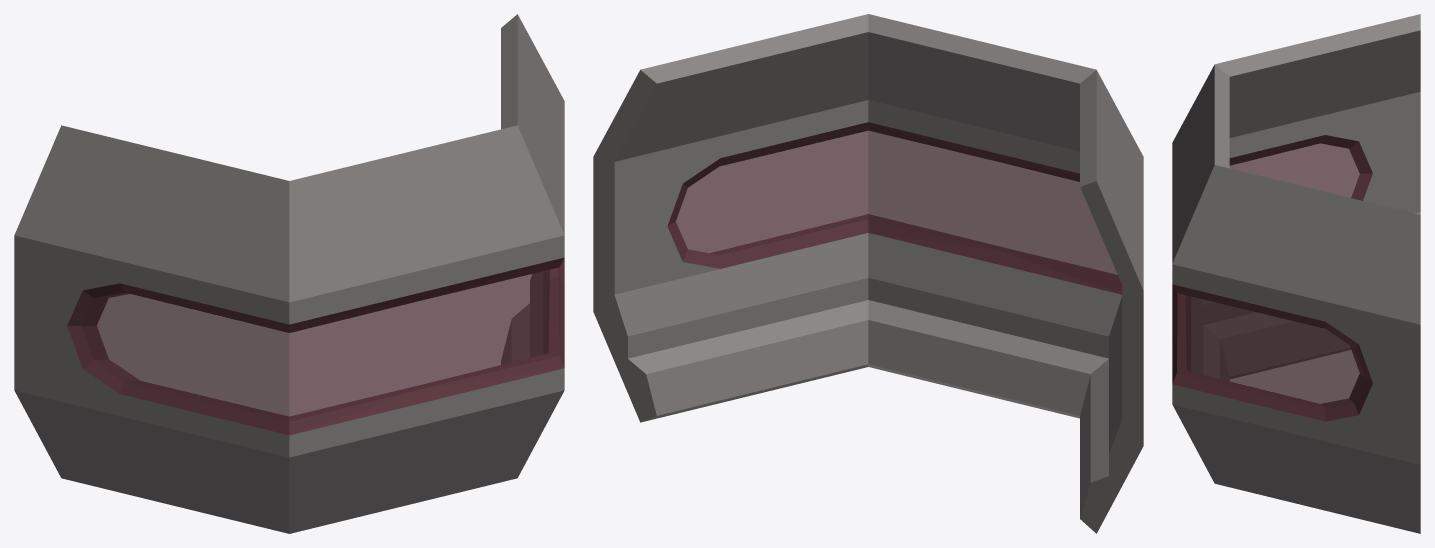
Rendered from scifi-window-corridor-turn.fbx.
3 views of the same model, side by side, from view 1: azimuth 30°, elevation 25°; view 2: azimuth 150°, elevation 25°; view 3: azimuth 270°, elevation 25° (orthographic). The views are drawn at different scales.
Visible parts, largest first — view 1: scifi-window-corridor-turn; view 2: scifi-window-corridor-turn; view 3: scifi-window-corridor-turn.
Boxes of the visible parts, <box> form: scifi-window-corridor-turn: <box>14,14,564,533</box>; scifi-window-corridor-turn: <box>593,14,1143,533</box>; scifi-window-corridor-turn: <box>1172,14,1420,533</box>.
Size of the model in its own units: 5.2 by 3.19 by 2.25.
